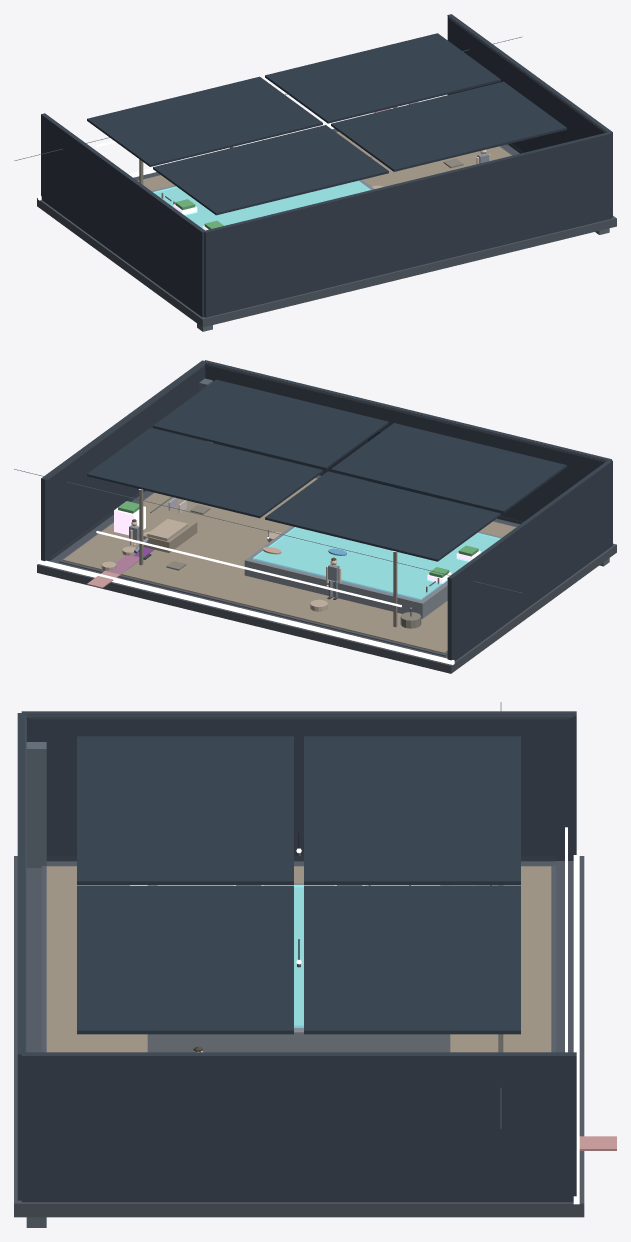
Rendered from floor-skydeck-reservoir.glb.
3 views of the same model, one above another, from view 1: azimuth 30°, elevation 25°; view 2: azimuth 150°, elevation 25°; view 3: azimuth 270°, elevation 25° (orthographic). The views are drawn at different scales.
Parts seen in each view (by area): view 1: WallBack_restoration, WallL_restoration, Coffer_-1_1_restoration, Coffer_1_1_restoration, Coffer_-1_-1_restoration, Coffer_1_-1_restoration, Slab_restoration, WallR_restoration, PoolWater, Pool, Deck; view 2: Deck, WallL_restoration, Coffer_1_1_restoration, Coffer_1_-1_restoration, Coffer_-1_-1_restoration, Coffer_-1_1_restoration, Pool, WallR_restoration, WallBack_restoration, PoolWater, Slab_restoration, Reveal_restoration (+8 smaller); view 3: WallR_restoration, Coffer_1_-1_restoration, Coffer_1_1_restoration, Coffer_-1_-1_restoration, Coffer_-1_1_restoration, WallL_restoration, Slab_restoration, Deck, Pool, WallBack_restoration, Post_restoration_-1, IntFloor_restoration (+5 smaller).
Part boxes in pixels (x1=…): WallBack_restoration: x1=203, y1=132, x2=611, y2=317; WallL_restoration: x1=41, y1=113, x2=204, y2=317; Coffer_-1_1_restoration: x1=87, y1=76, x2=322, y2=166; Coffer_1_1_restoration: x1=265, y1=33, x2=500, y2=123; Coffer_-1_-1_restoration: x1=153, y1=125, x2=388, y2=215; Coffer_1_-1_restoration: x1=331, y1=81, x2=566, y2=171; Slab_restoration: x1=37, y1=128, x2=616, y2=327; WallR_restoration: x1=447, y1=14, x2=612, y2=217; PoolWater: x1=153, y1=180, x2=370, y2=228; Pool: x1=151, y1=180, x2=374, y2=227; Deck: x1=138, y1=131, x2=511, y2=190; Deck: x1=63, y1=478, x2=516, y2=653; WallL_restoration: x1=447, y1=460, x2=612, y2=661; Coffer_1_1_restoration: x1=87, y1=428, x2=322, y2=518; Coffer_1_-1_restoration: x1=153, y1=379, x2=388, y2=469; Coffer_-1_-1_restoration: x1=331, y1=423, x2=566, y2=513; Coffer_-1_1_restoration: x1=265, y1=471, x2=500, y2=561; Pool: x1=244, y1=526, x2=502, y2=618; WallR_restoration: x1=41, y1=360, x2=205, y2=561; WallBack_restoration: x1=203, y1=360, x2=611, y2=521; PoolWater: x1=253, y1=527, x2=500, y2=600; Slab_restoration: x1=37, y1=475, x2=616, y2=673; Reveal_restoration: x1=38, y1=559, x2=454, y2=664; WallR_restoration: x1=21, y1=1052, x2=576, y2=1202; Coffer_1_-1_restoration: x1=77, y1=885, x2=293, y2=1034; Coffer_1_1_restoration: x1=304, y1=885, x2=520, y2=1034; Coffer_-1_-1_restoration: x1=77, y1=736, x2=293, y2=884; Coffer_-1_1_restoration: x1=304, y1=736, x2=520, y2=884; WallL_restoration: x1=21, y1=711, x2=576, y2=860; Slab_restoration: x1=14, y1=856, x2=584, y2=1217; Deck: x1=46, y1=866, x2=551, y2=1052; Pool: x1=147, y1=883, x2=450, y2=1052; WallBack_restoration: x1=17, y1=713, x2=25, y2=1200; Post_restoration_-1: x1=26, y1=742, x2=46, y2=867; IntFloor_restoration: x1=41, y1=866, x2=556, y2=1052.
Size of the model in its own units: 20 by 3.8 by 11.95.
